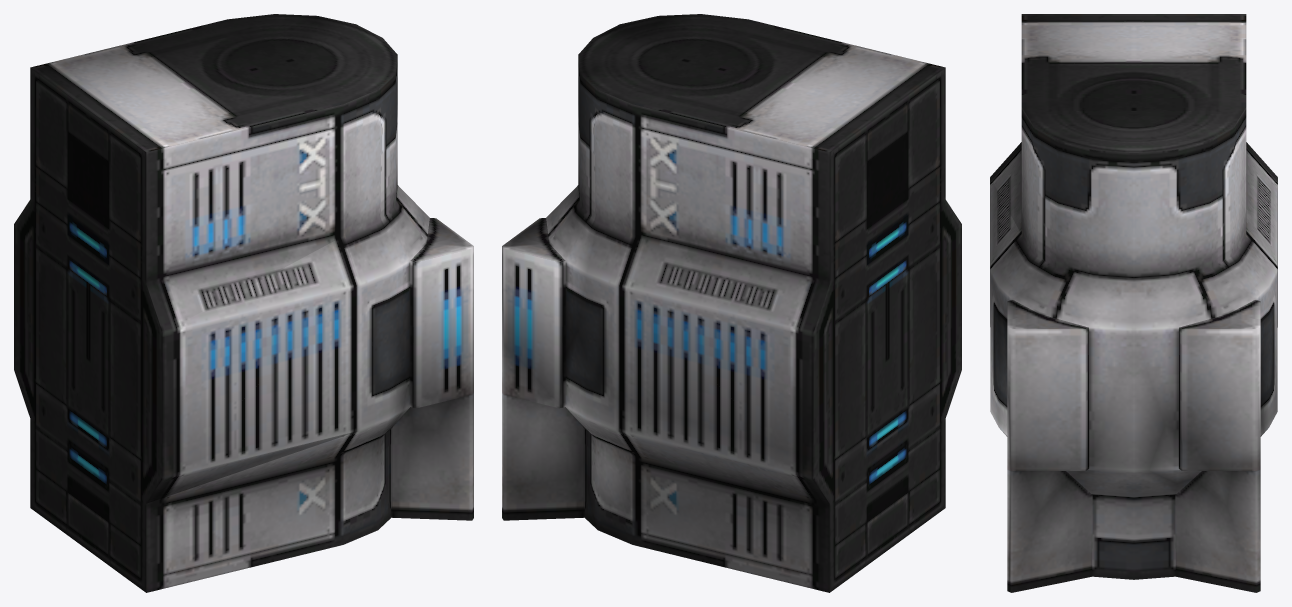
Rendered from MainFrame01.FBX.
3 views of the same model, side by side, from view 1: azimuth 30°, elevation 25°; view 2: azimuth 150°, elevation 25°; view 3: azimuth 270°, elevation 25° (orthographic). The views are drawn at different scales.
Visible parts, largest first — view 1: MainFrame01; view 2: MainFrame01; view 3: MainFrame01.
Boxes of the visible parts, x1=… form: MainFrame01: x1=14, y1=14, x2=473, y2=592; MainFrame01: x1=502, y1=14, x2=961, y2=592; MainFrame01: x1=990, y1=14, x2=1277, y2=592.
Bounding box in the file's own units: 2.5 × 3.25 × 1.99.
